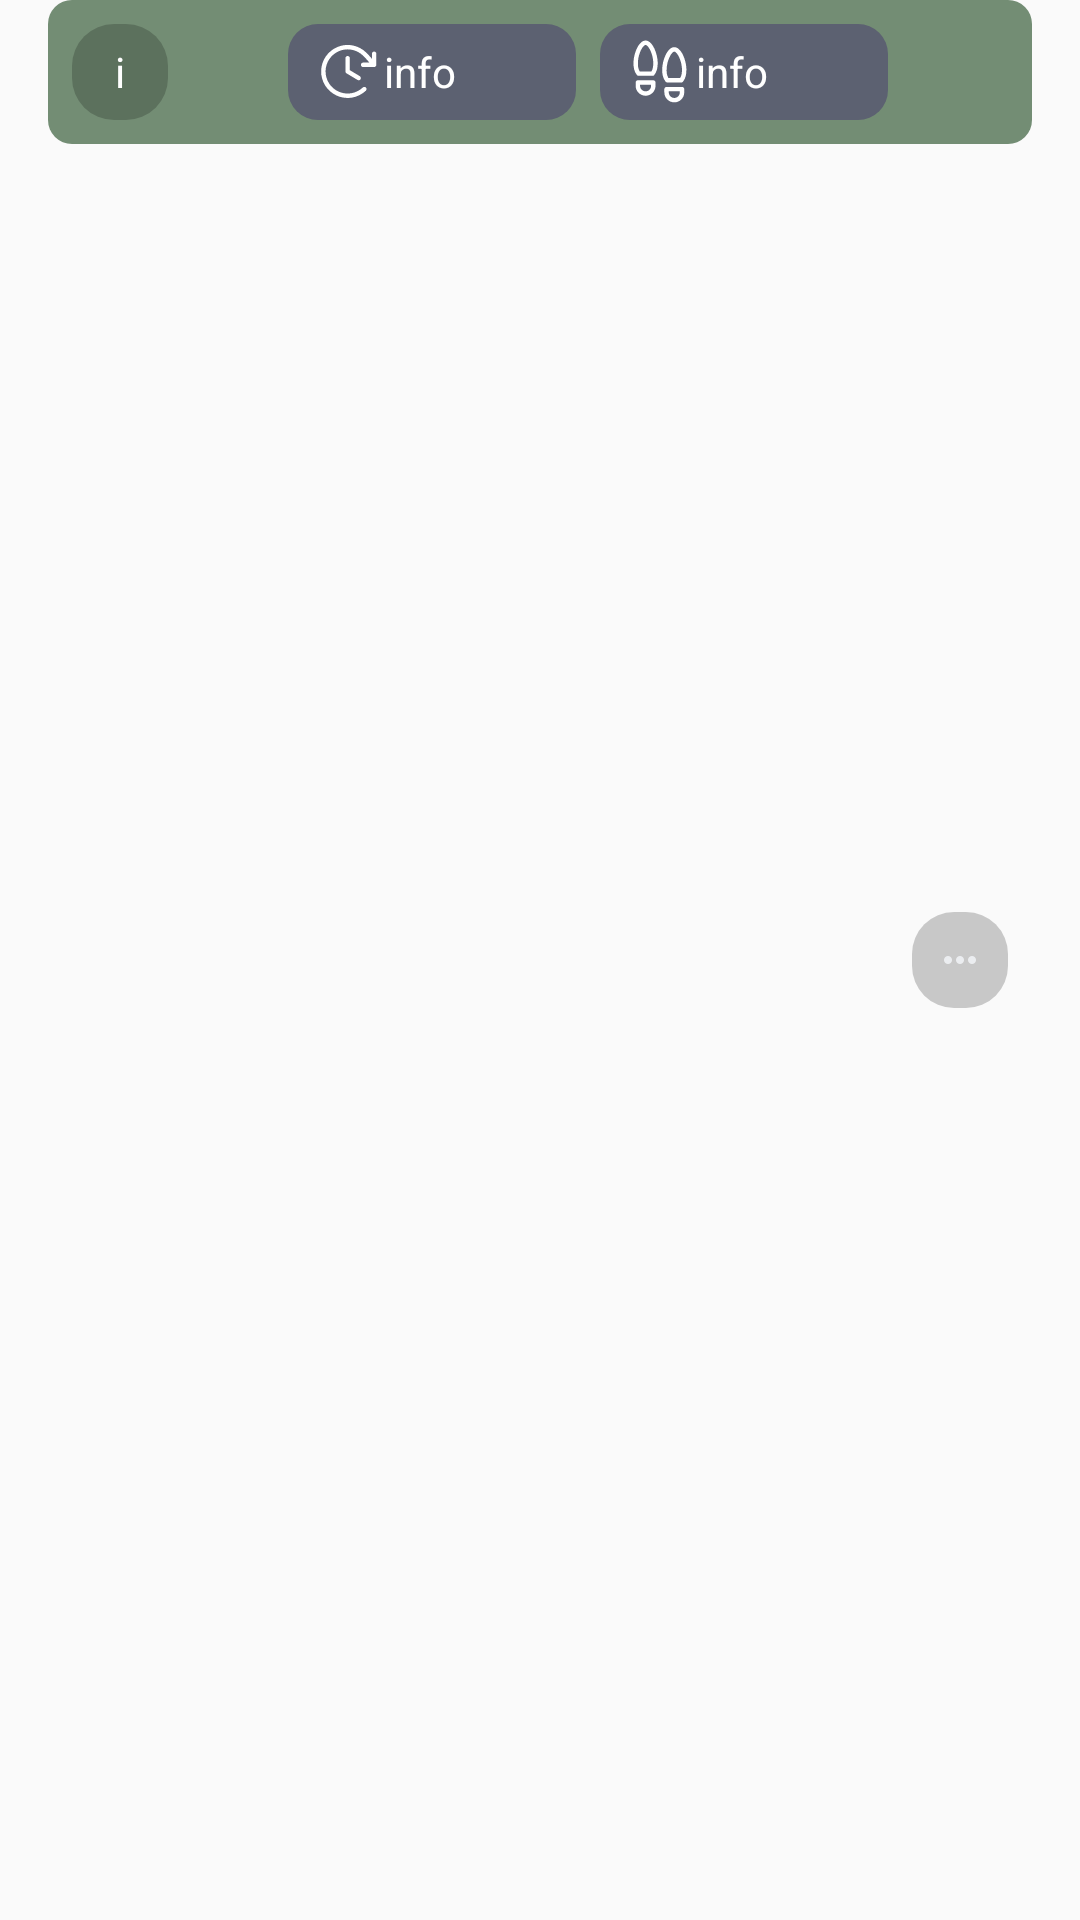

Icon bounding boxes for this 1080w x 1920h phone screenshot, format (x1=x1, y1=y1, x2=x2, y2=y2):
more: (x1=944, y1=956, x2=976, y2=964)
steps: (x1=633, y1=40, x2=687, y2=103)
